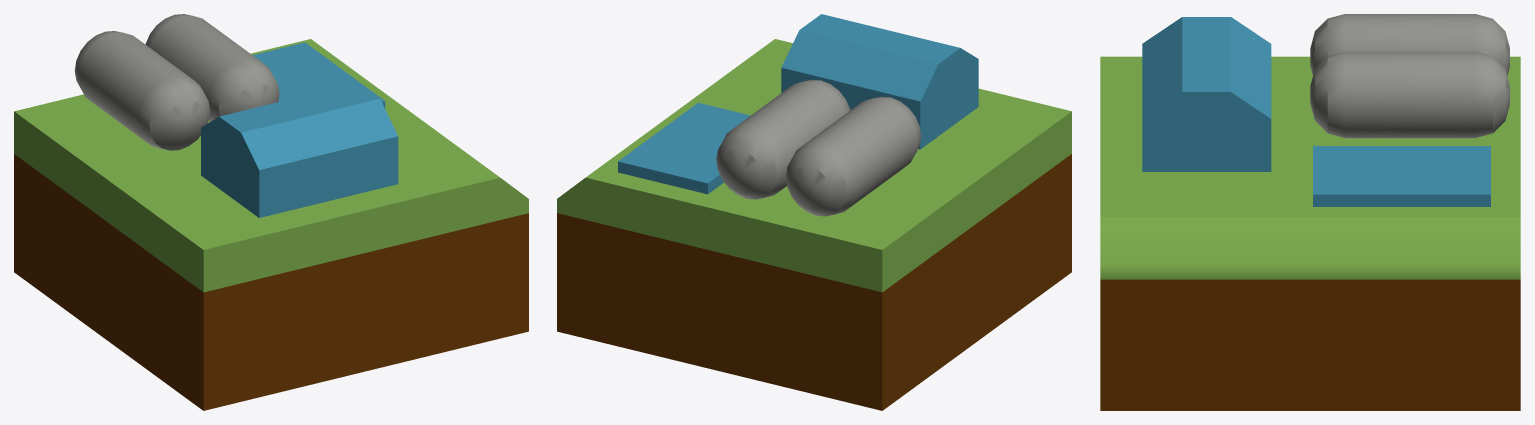
File: HydroFarm01.fbx
3 views of the same model, side by side, from view 1: azimuth 30°, elevation 25°; view 2: azimuth 150°, elevation 25°; view 3: azimuth 270°, elevation 25° (orthographic). The views are drawn at different scales.
Parts seen in each view (by area): view 1: HydroFarm01; view 2: HydroFarm01; view 3: HydroFarm01.
Boxes of the visible parts, x1=… form: HydroFarm01: x1=14, y1=14, x2=528, y2=410; HydroFarm01: x1=557, y1=14, x2=1071, y2=410; HydroFarm01: x1=1100, y1=14, x2=1520, y2=410.
Size of the model in its own units: 96.18 by 66.2 by 97.03.
1 material, 1 textured.
